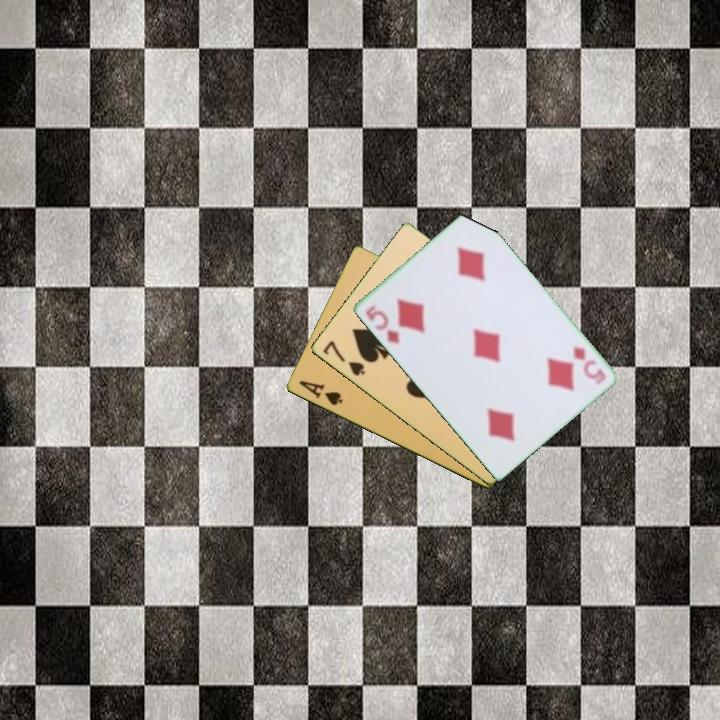5d: (568, 343, 609, 388), (362, 301, 402, 347)
7s: (319, 337, 368, 379)
As: (295, 377, 346, 408)
